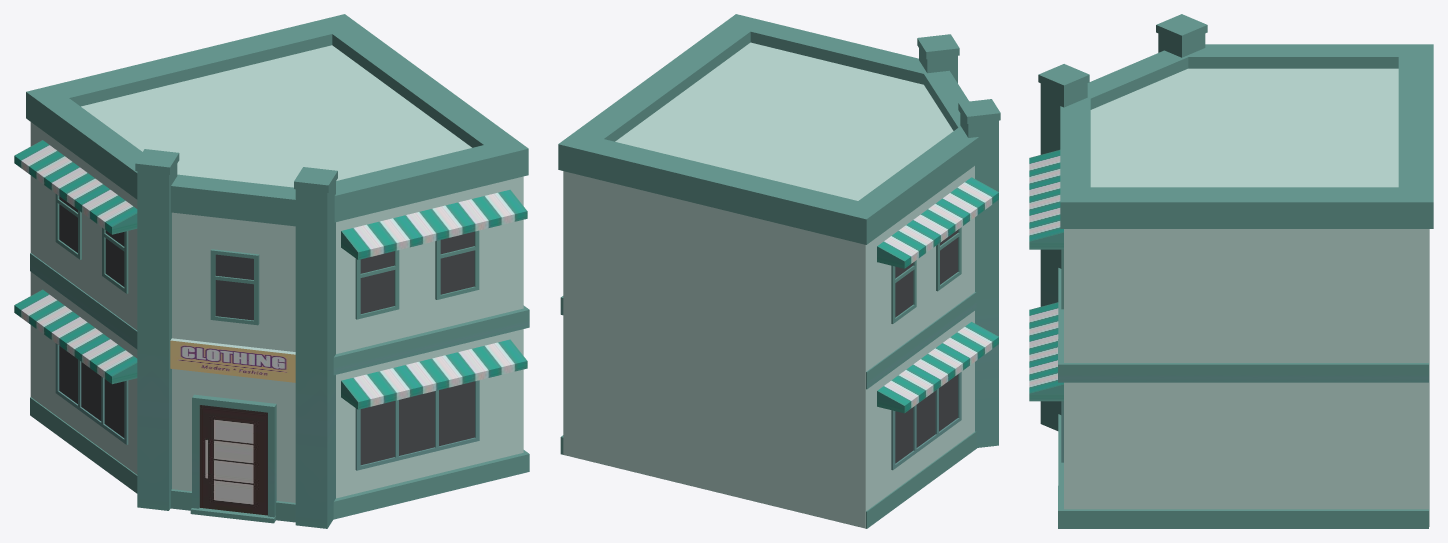
The model's file is Building_Clothing.glb.
The picture shows the model from 3 angles, left to right: view 1: azimuth 30°, elevation 25°; view 2: azimuth 150°, elevation 25°; view 3: azimuth 270°, elevation 25°; orthographic projection. The views are drawn at different scales.
Parts seen in each view (by area): view 1: Building_Clothing; view 2: Building_Clothing; view 3: Building_Clothing.
Boxes of the visible parts, x1=… form: Building_Clothing: x1=14, y1=14, x2=529, y2=528; Building_Clothing: x1=558, y1=14, x2=1000, y2=528; Building_Clothing: x1=1029, y1=14, x2=1433, y2=528.
Bounding box in the file's own units: 0.9701 × 0.9284 × 0.9725.
Materials: 1 (1 with a texture image).
